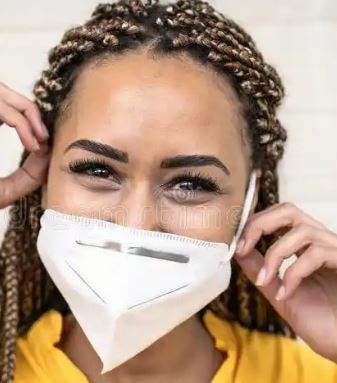with_facemask: (48, 186, 215, 356)
